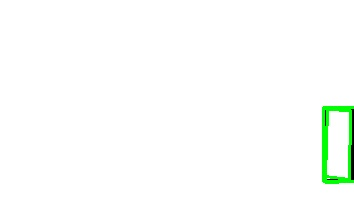line_segment: (322, 106, 354, 183), (325, 109, 352, 180)
